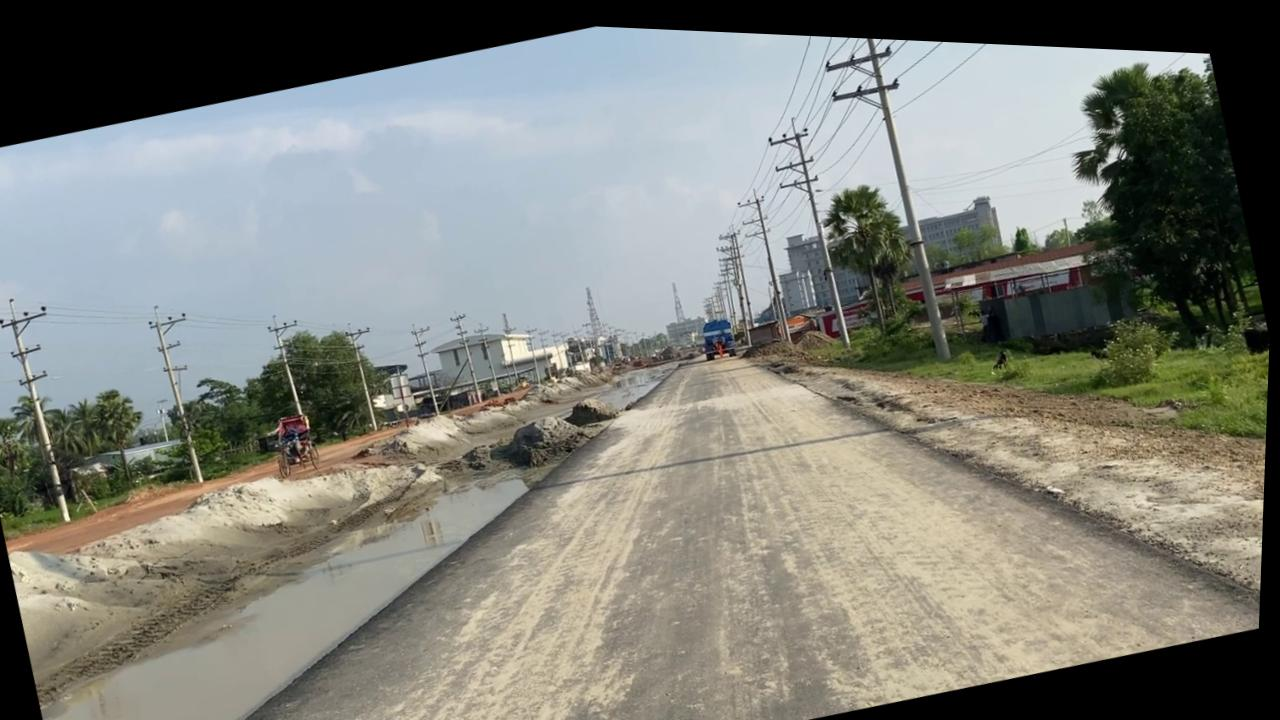Dog: (990, 338, 1013, 363)
Pole: (793, 28, 969, 366), (758, 106, 864, 347), (0, 289, 100, 528), (141, 296, 228, 485)
Rickshaw: (539, 250, 1221, 720)
Sidewalk: (12, 441, 601, 720)
Traffic-sign: (1041, 37, 1275, 351), (811, 164, 934, 337), (87, 380, 161, 489)
Tree: (698, 308, 741, 356)
